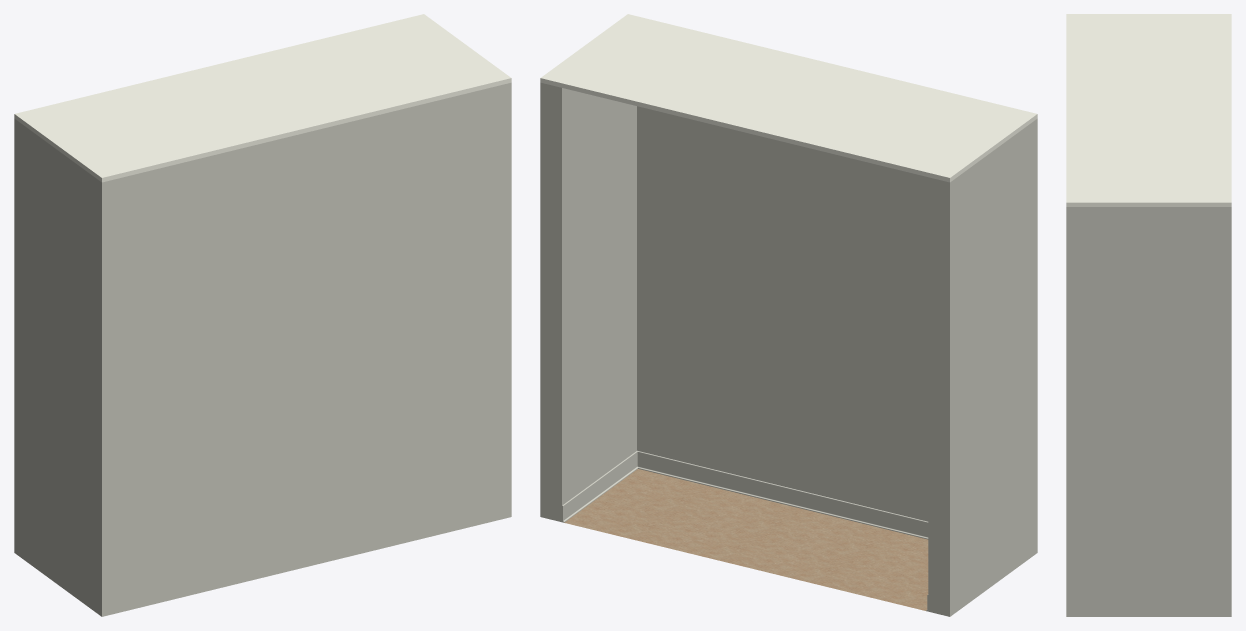
The model's file is closet.FBX.
3 renders of one model, left to right at view 1: azimuth 30°, elevation 25°; view 2: azimuth 150°, elevation 25°; view 3: azimuth 270°, elevation 25°, orthographic. The views are drawn at different scales.
Parts seen in each view (by area): view 1: walls, ceiling; view 2: walls, ceiling, carpet, baseboard south, baseboard east; view 3: walls, ceiling.
Part boxes in pixels (x1=…): walls: x1=14, y1=82, x2=511, y2=616; ceiling: x1=14, y1=14, x2=511, y2=182; walls: x1=540, y1=82, x2=1037, y2=616; ceiling: x1=540, y1=14, x2=1037, y2=182; carpet: x1=564, y1=469, x2=928, y2=610; baseboard south: x1=637, y1=451, x2=928, y2=539; baseboard east: x1=562, y1=451, x2=637, y2=522; walls: x1=1066, y1=207, x2=1231, y2=616; ceiling: x1=1066, y1=14, x2=1231, y2=206.
Bounding box in the file's own units: 94.72 × 97 × 35.06.
2 materials, 1 textured.
